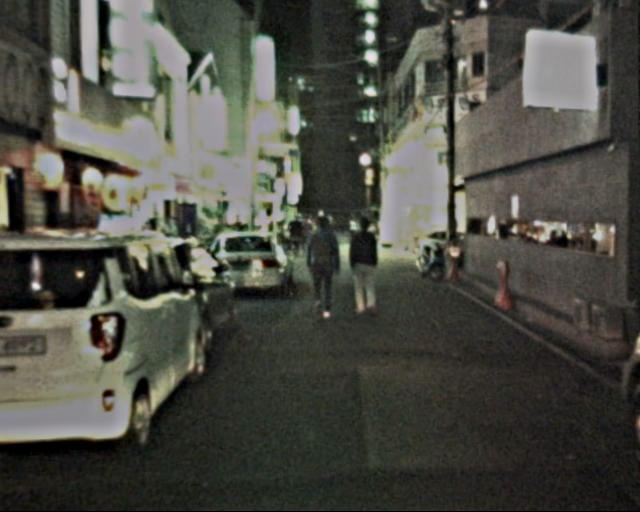person: (343, 216, 385, 317), (303, 215, 344, 316)
